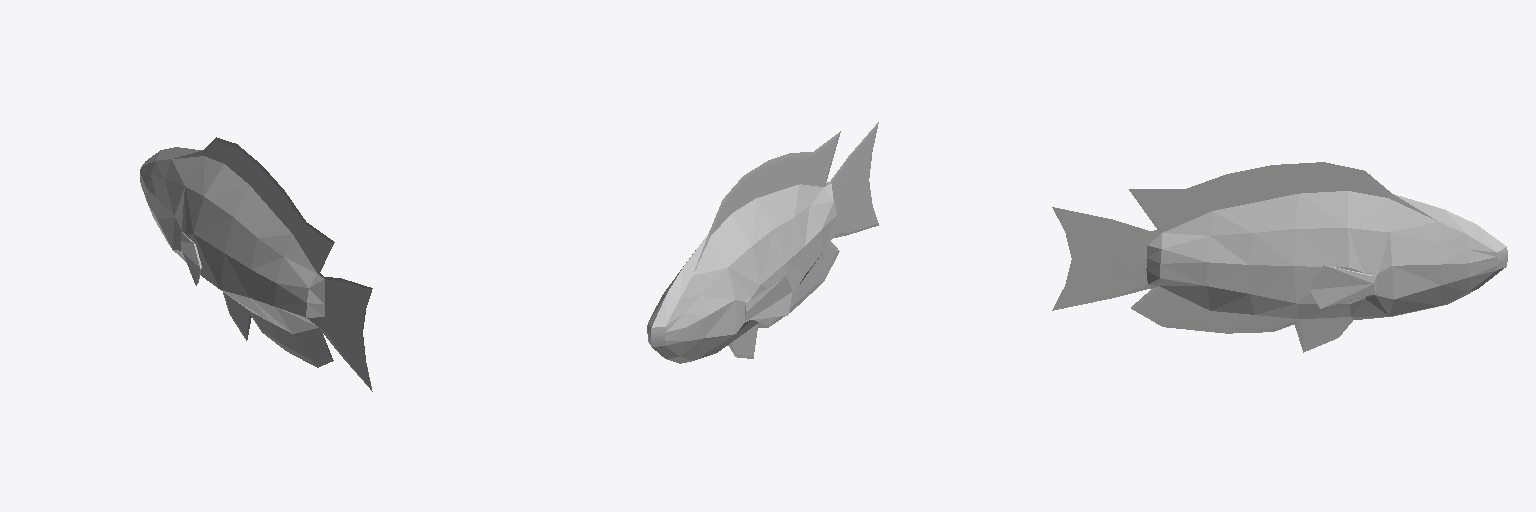
The model's file is fish3.obj.
3 views of the same model, side by side, from view 1: azimuth 30°, elevation 25°; view 2: azimuth 150°, elevation 25°; view 3: azimuth 270°, elevation 25° (orthographic).
Parts seen in each view (by area): view 1: FISH_Plane; view 2: FISH_Plane; view 3: FISH_Plane.
Part boxes in pixels (left/top/right/bottom): FISH_Plane: left=140, top=137, right=372, bottom=391; FISH_Plane: left=647, top=122, right=878, bottom=363; FISH_Plane: left=1052, top=162, right=1507, bottom=352.
Bounding box in the file's own units: 2.03 × 4.58 × 9.92.